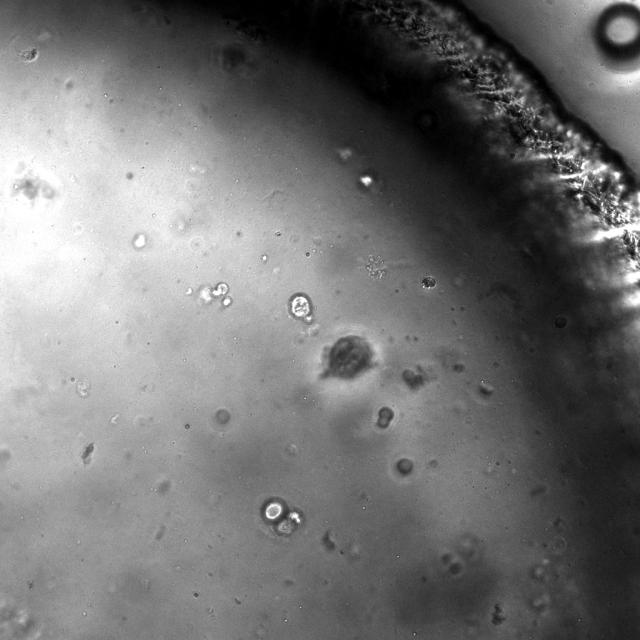organoid: (319, 334, 374, 379), (261, 497, 302, 535), (196, 283, 232, 309), (288, 293, 312, 323), (366, 254, 386, 279), (376, 406, 393, 428), (491, 603, 506, 624), (396, 458, 412, 475), (216, 408, 230, 424), (421, 275, 437, 288)
